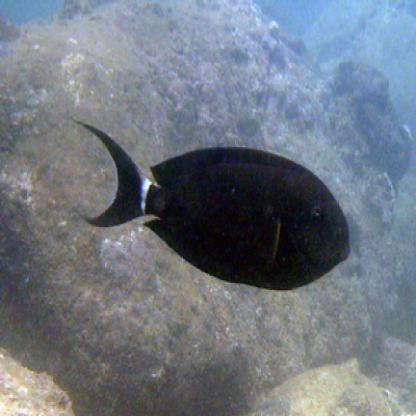Bio: (73, 116, 350, 290)
